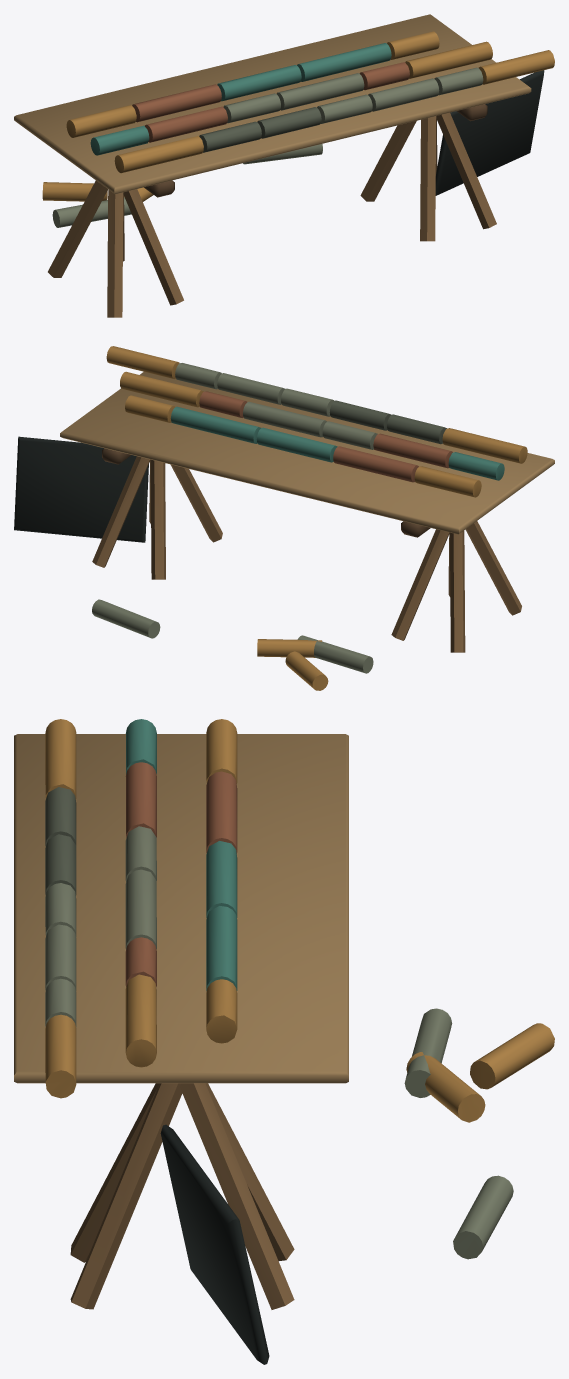
File: core_rack_b_lod1.glb
3 views of the same model, one above another, from view 1: azimuth 30°, elevation 25°; view 2: azimuth 150°, elevation 25°; view 3: azimuth 270°, elevation 25° (orthographic). The views are drawn at different scales.
Parts seen in each view (by area): view 1: Surface.001; view 2: Surface.001; view 3: Surface.001.
Boxes of the visible parts, x1=… form: Surface.001: x1=14, y1=14, x2=554, y2=317; Surface.001: x1=14, y1=346, x2=554, y2=690; Surface.001: x1=14, y1=719, x2=554, y2=1364.
Bounding box in the file's own units: 2.85 × 0.9339 × 1.61.
